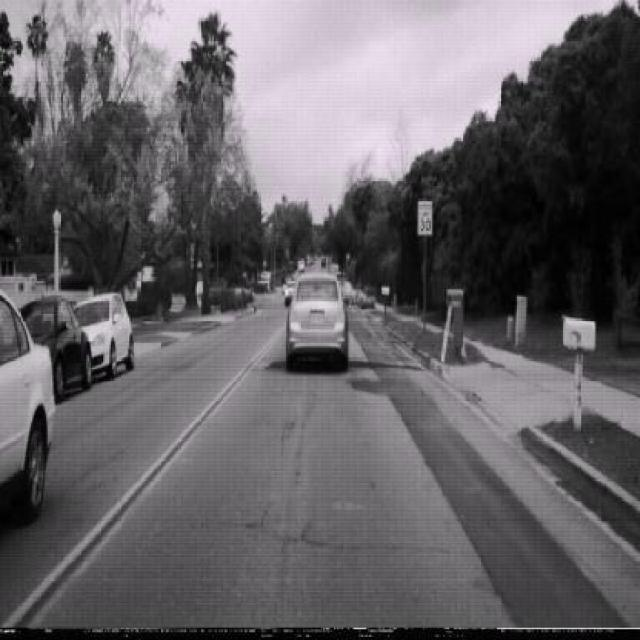speedLimit30: (417, 198, 432, 236)
